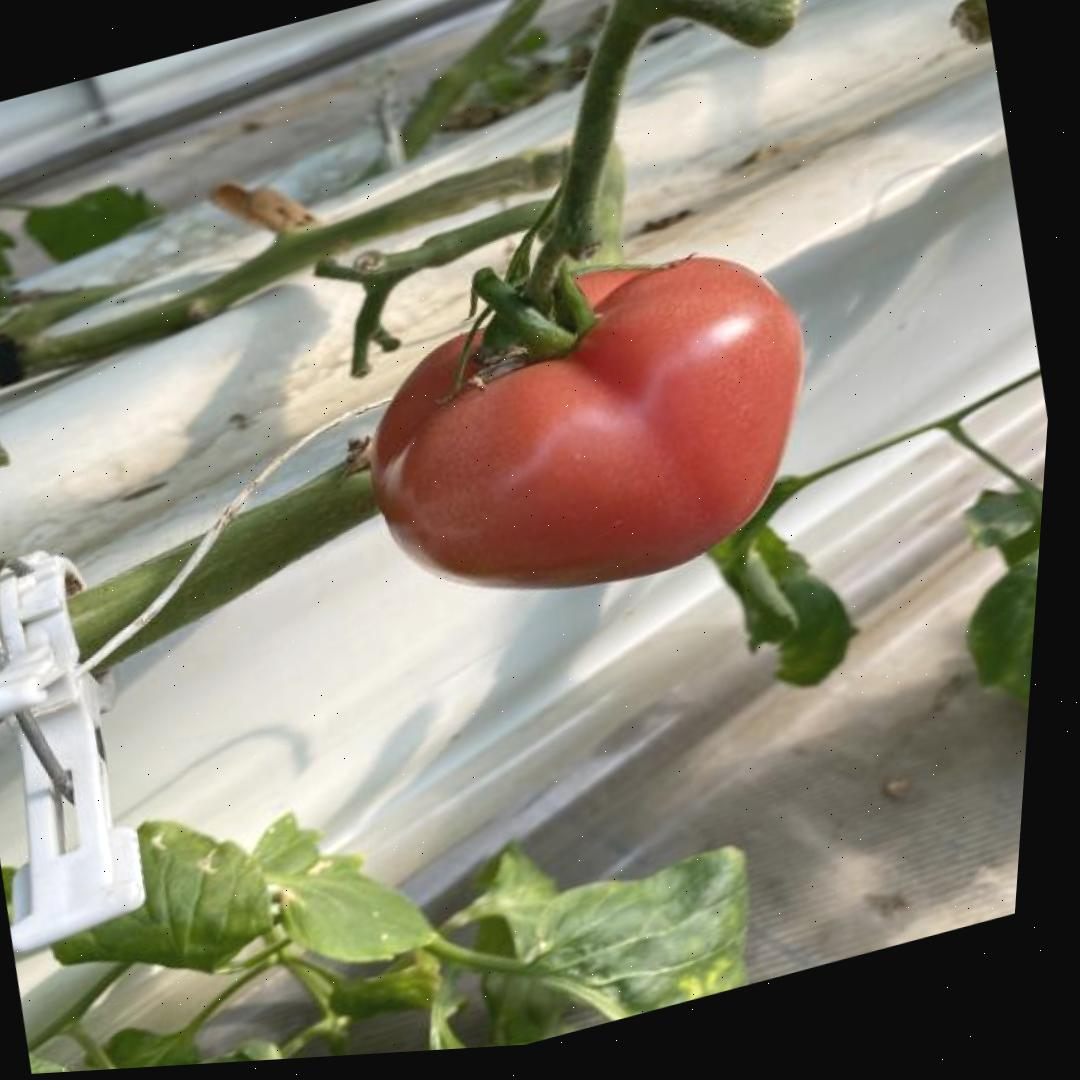matang: (331, 211, 852, 647)
